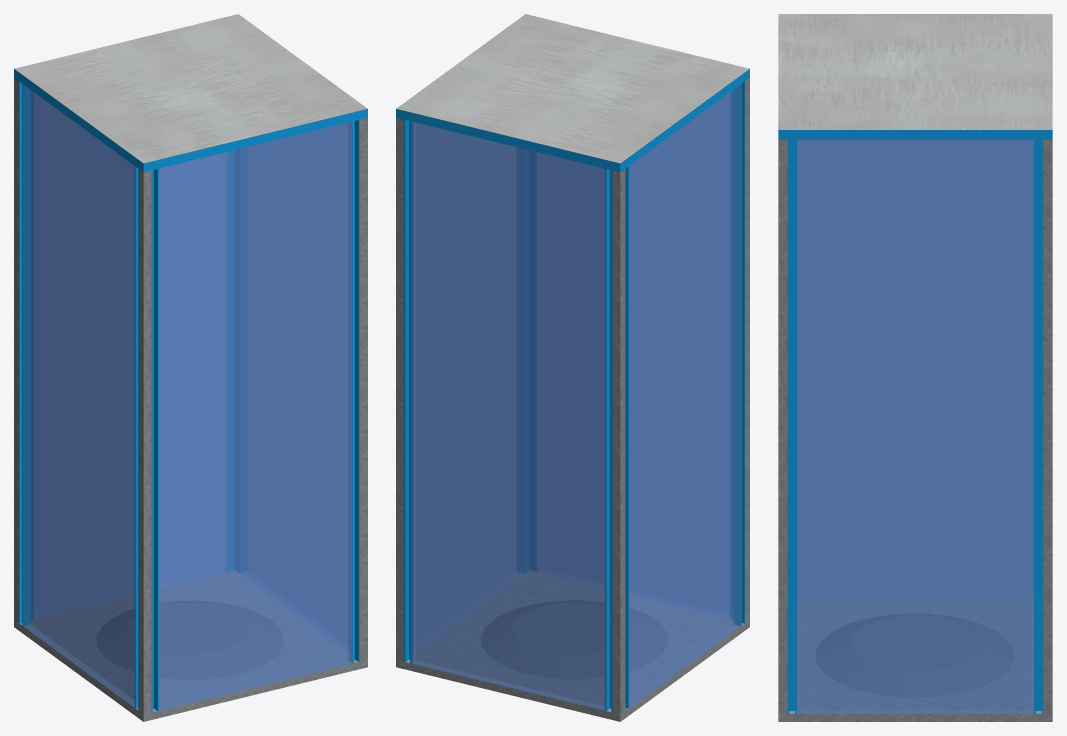
File: kapsula.glb
3 views of the same model, side by side, from view 1: azimuth 30°, elevation 25°; view 2: azimuth 150°, elevation 25°; view 3: azimuth 270°, elevation 25° (orthographic). The views are drawn at different scales.
Visible parts, largest first — view 1: Object_1; view 2: Object_1; view 3: Object_1.
Boxes of the visible parts, x1,y1,x2,y2 form: Object_1: (14, 14, 367, 721); Object_1: (396, 14, 749, 721); Object_1: (778, 14, 1052, 721).
Size of the model in its own units: 0.9165 by 2.18 by 0.9165.
Materials: 6 (3 with a texture image).
